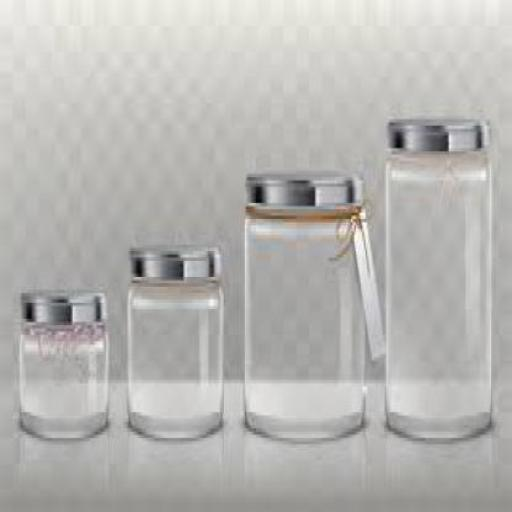glass: (383, 148, 491, 442), (242, 206, 364, 438), (124, 277, 224, 432), (16, 319, 108, 438)
metal: (243, 170, 363, 202), (385, 116, 488, 148), (19, 287, 105, 319), (126, 248, 219, 276)
